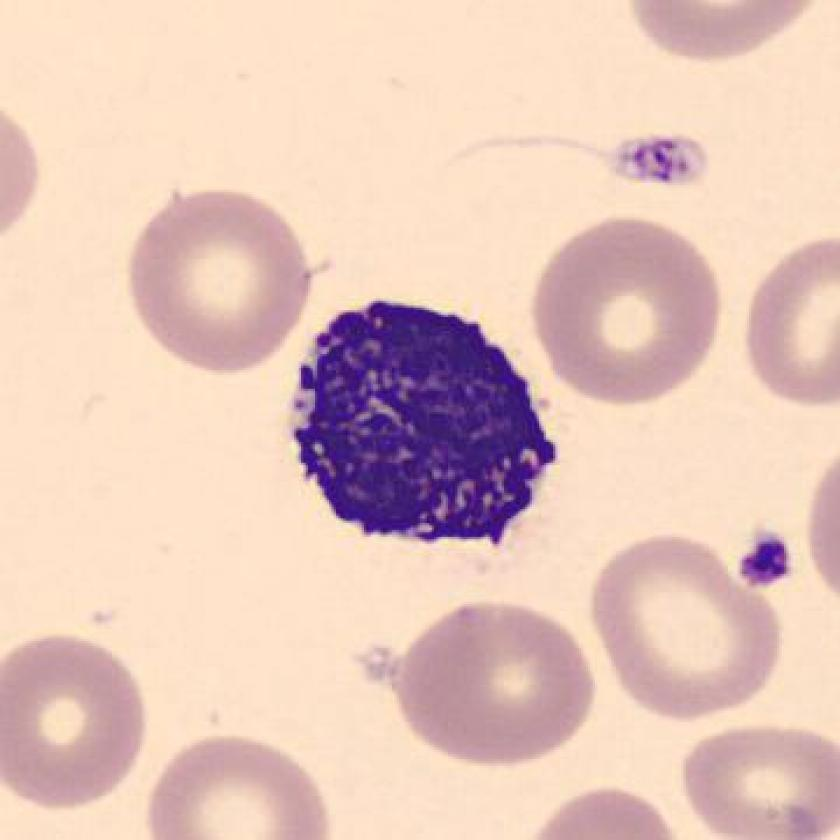basophil: (290, 293, 559, 559)
